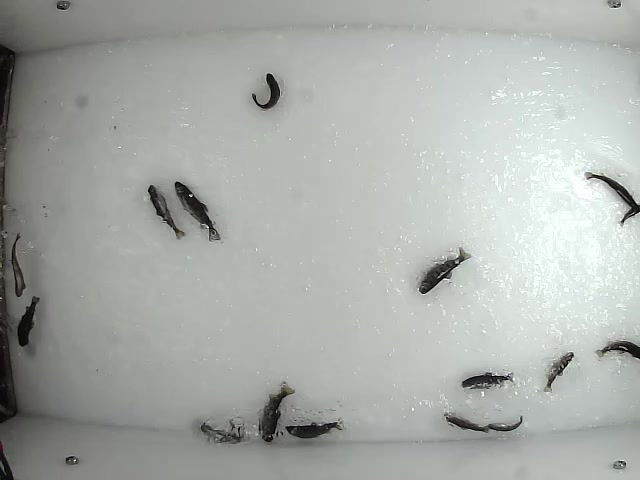fish: (173, 178, 222, 244), (417, 244, 473, 296), (582, 169, 640, 216), (256, 380, 298, 443), (145, 182, 187, 242), (15, 293, 42, 349), (284, 418, 344, 441), (250, 71, 283, 111), (542, 351, 573, 393), (199, 419, 246, 446), (457, 369, 514, 391), (8, 229, 26, 297), (442, 412, 489, 434), (487, 414, 524, 432)
